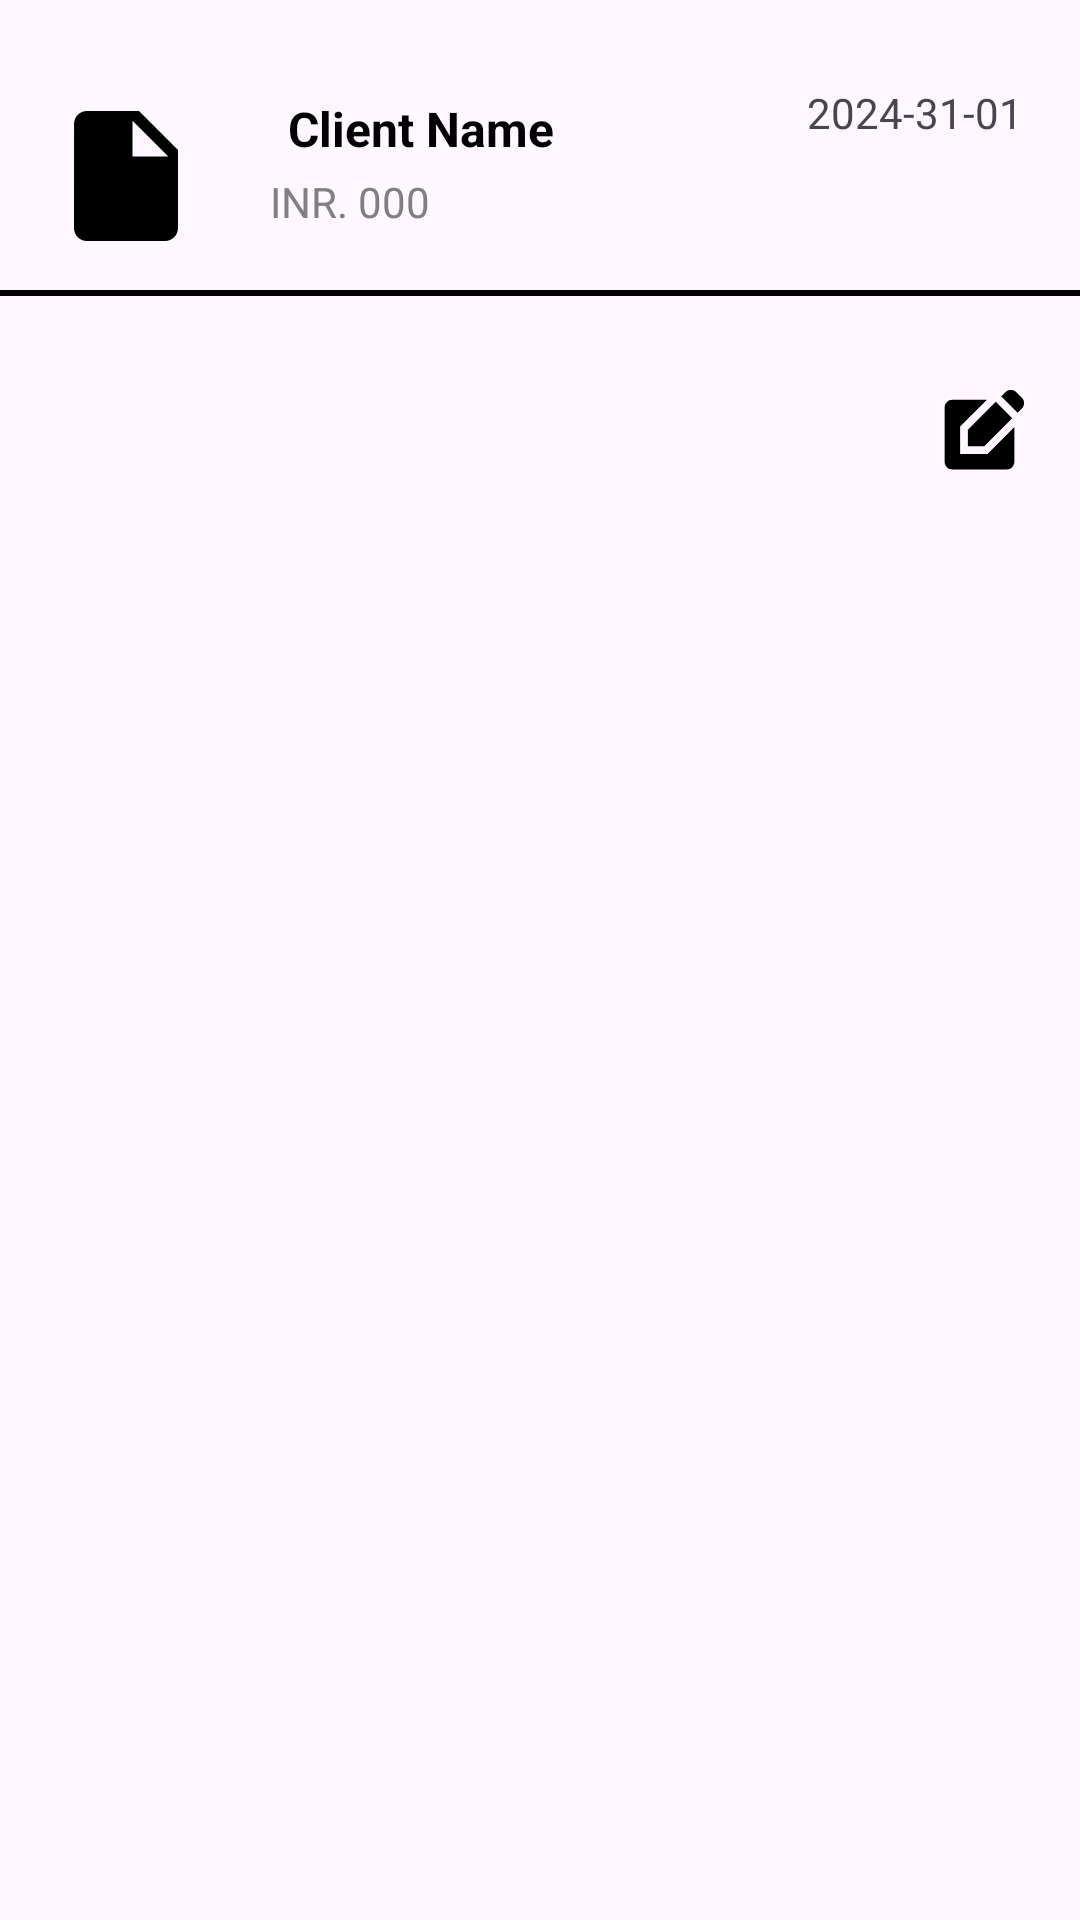

Screen size 1080*1920. Icon name, then its center in pixels as (x,y):
edit square: (984,430)
insert drive file: (126,176)
